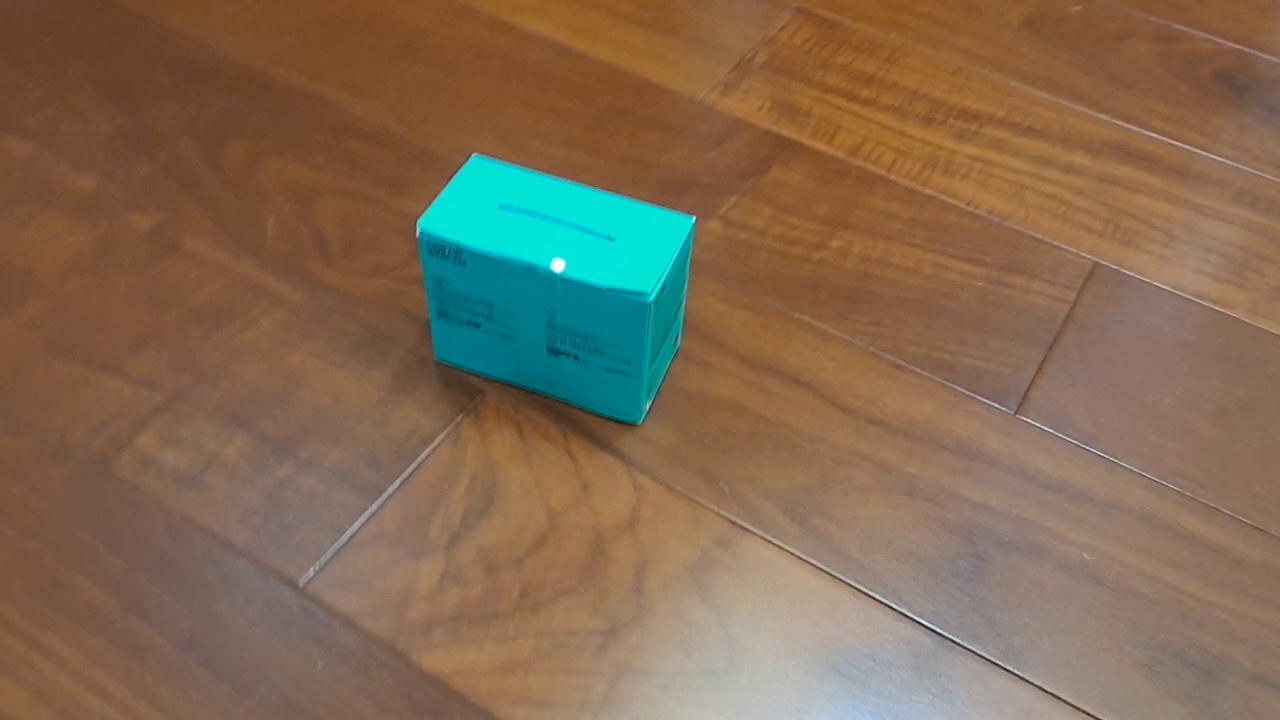webcam: (412, 149, 698, 427)
